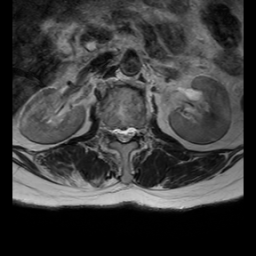CCS_severe_stenosis: (120, 120, 128, 148)
LFS_normal: (136, 119, 143, 143)
LLS_normal: (128, 120, 136, 144)
RFS_normal: (105, 120, 113, 141)
RLS_normal: (113, 120, 120, 144)
